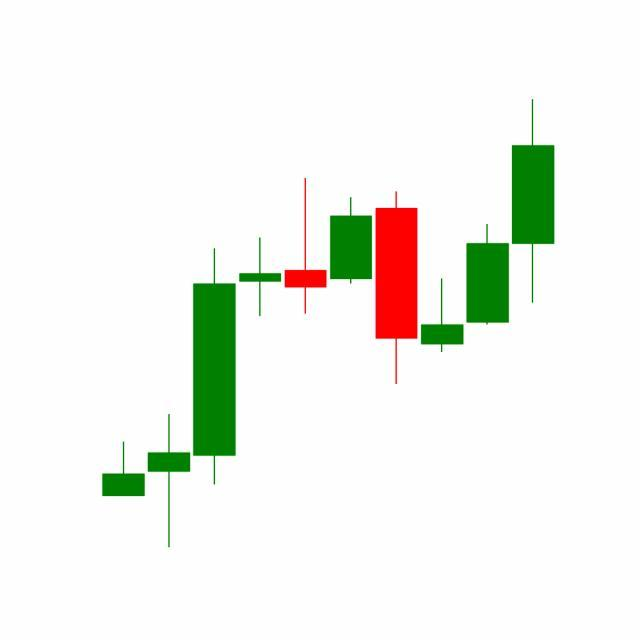Hikkake Pattern: (283, 176, 512, 388)
